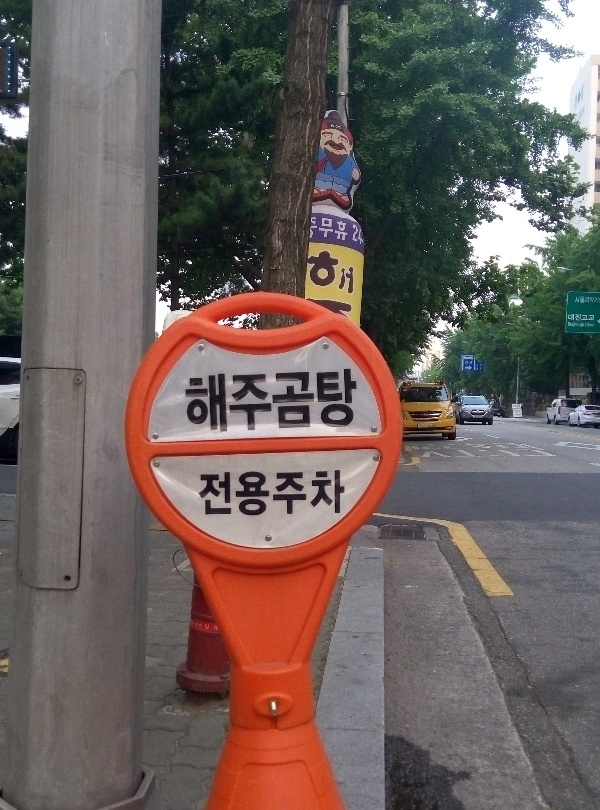text: (193, 365, 208, 436), (209, 365, 224, 436), (225, 365, 240, 436), (241, 365, 256, 436), (257, 365, 272, 436), (273, 365, 288, 436), (289, 365, 304, 436), (305, 365, 320, 436), (321, 365, 336, 436), (337, 365, 352, 436), (209, 468, 224, 518), (225, 468, 240, 518), (241, 468, 256, 518), (257, 468, 272, 518), (273, 468, 288, 518), (289, 468, 304, 518), (305, 468, 320, 518), (321, 468, 336, 518), (321, 250, 336, 298), (337, 250, 352, 298), (309, 250, 320, 298), (185, 365, 192, 436), (199, 468, 208, 518), (337, 468, 346, 518), (321, 214, 336, 244), (337, 214, 350, 244), (353, 222, 368, 248), (353, 365, 358, 436), (311, 216, 320, 240), (193, 619, 208, 631), (577, 296, 592, 305), (209, 619, 219, 631), (577, 314, 592, 321), (578, 322, 592, 328), (593, 296, 600, 305), (466, 360, 480, 364), (568, 314, 576, 321), (568, 322, 576, 329), (353, 250, 354, 298), (585, 323, 592, 328), (319, 214, 320, 244), (593, 314, 595, 321), (191, 619, 192, 631), (593, 323, 595, 328)
